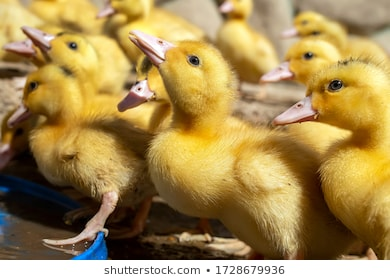duck: (129, 25, 308, 245), (271, 67, 390, 256), (11, 67, 132, 247), (19, 26, 111, 73)
